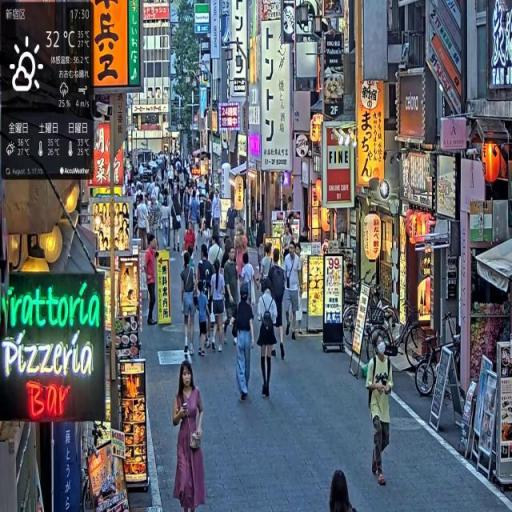person: (173, 356, 208, 512), (366, 334, 395, 487), (256, 274, 280, 402), (232, 283, 256, 405), (269, 251, 288, 364), (284, 240, 304, 342), (181, 250, 199, 355), (145, 234, 160, 329), (329, 470, 360, 512), (197, 281, 211, 360), (137, 195, 151, 257), (172, 188, 184, 255), (256, 211, 268, 274)
